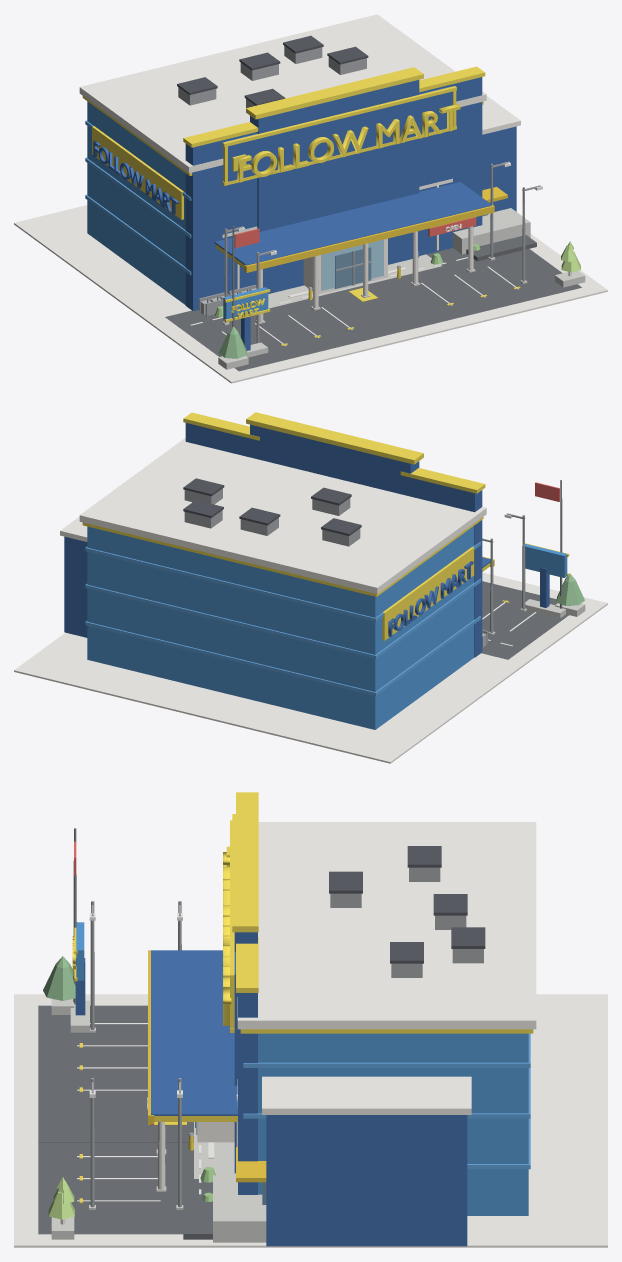
File: follow-mart.glb
3 views of the same model, one above another, from view 1: azimuth 30°, elevation 25°; view 2: azimuth 150°, elevation 25°; view 3: azimuth 270°, elevation 25° (orthographic). The views are drawn at different scales.
Visible parts, largest first — view 1: fm_roof.001, fm_parking.001, fm_parapet_c.001, fm_pad.001, fm_body.001, fm_parapet_l.001, fm_canopy_stripe.001, fm_sign_bar.001, fm_parapet_r.001, fm_drive.001, fm_text.010, fm_parapet_crown.001 (+19 smaller); view 2: fm_body.001, fm_roof.001, fm_pad.001, fm_parapet_c.001, fm_parking.001, fm_parapet_l.001, fm_parapet_crown.001, fm_wing.001, fm_side_banner.001, fm_belt.003, fm_belt.004, fm_belt.005 (+7 smaller); view 3: fm_roof.001, fm_pad.001, fm_wing.001, fm_parking.001, fm_body.001, fm_canopy_stripe.001, fm_wing_roof.001, fm_drive.001, fm_parapet_r.001, fm_parapet_crown.001, fm_dock.001, fm_belt.005 (+15 smaller).
Part boxes in pixels (x1,y1,x2,y2): fm_roof.001: (79, 14, 486, 173); fm_parking.001: (165, 248, 581, 371); fm_parapet_c.001: (250, 80, 419, 293); fm_pad.001: (14, 205, 607, 383); fm_body.001: (87, 101, 185, 304); fm_parapet_l.001: (185, 132, 257, 311); fm_canopy_stripe.001: (214, 182, 492, 265); fm_sign_bar.001: (224, 86, 452, 181); fm_parapet_r.001: (419, 77, 482, 255); fm_drive.001: (320, 279, 444, 337); fm_text.010: (237, 103, 460, 182); fm_parapet_crown.001: (246, 67, 423, 119); fm_body.001: (87, 526, 474, 729); fm_roof.001: (79, 438, 486, 594); fm_pad.001: (14, 572, 607, 763); fm_parapet_c.001: (250, 424, 419, 494); fm_parking.001: (481, 581, 568, 659); fm_parapet_l.001: (403, 476, 482, 657); fm_parapet_crown.001: (246, 412, 423, 464); fm_wing.001: (64, 536, 87, 637); fm_side_banner.001: (382, 547, 474, 640); fm_belt.003: (85, 616, 480, 695); fm_belt.004: (85, 578, 480, 658); fm_belt.005: (85, 541, 480, 621); fm_roof.001: (237, 822, 536, 1029); fm_pad.001: (14, 994, 607, 1247); fm_wing.001: (266, 1115, 467, 1246); fm_parking.001: (38, 1005, 212, 1234); fm_body.001: (258, 1033, 528, 1215); fm_canopy_stripe.001: (151, 950, 237, 1115); fm_wing_roof.001: (262, 1076, 471, 1114); fm_drive.001: (38, 1097, 193, 1142); fm_parapet_r.001: (238, 993, 257, 1194); fm_parapet_crown.001: (232, 814, 258, 932); fm_dock.001: (213, 1175, 266, 1242); fm_belt.005: (243, 1033, 530, 1067).
Bounding box in the file's own units: 34.35 × 15.92 × 34.
